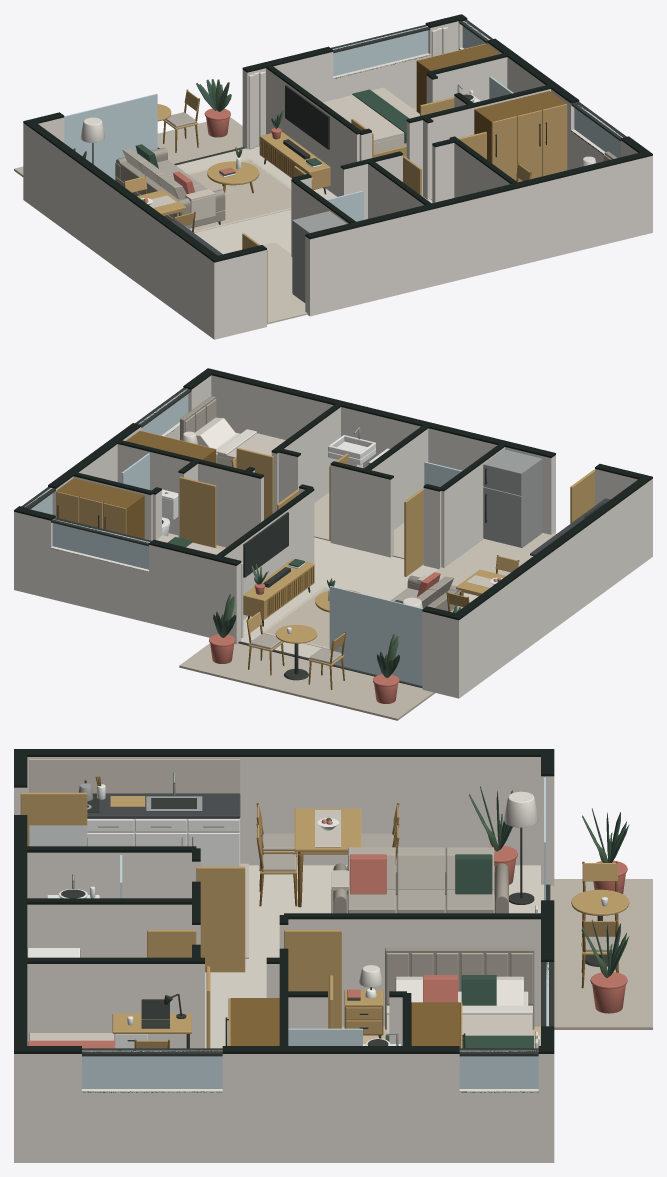
Rendered from jda-interior-tipo-b-terreo.glb.
The picture shows the model from 3 angles, top to bottom: view 1: azimuth 30°, elevation 25°; view 2: azimuth 150°, elevation 25°; view 3: azimuth 270°, elevation 25°; orthographic projection. The views are drawn at different scales.
Parts seen in each view (by area): view 1: VIS__INTB_PAREDE, VIS__INTB_MADEIRA, VIS__INTB_CORTE, VIS__INTB_VIDRO, VIS__INTB_MADEIRA_ESC, VIS__INTB_PISO, VIS__INTB_TECIDO2, VIS__INTB_ESCURO, VIS__INTB_TAPETE, VIS__INTB_TECIDO, VIS__INTB_VARANDA, VIS__INTB_MOLHADO (+6 smaller); view 2: VIS__INTB_PAREDE, VIS__INTB_MADEIRA, VIS__INTB_VIDRO, VIS__INTB_CORTE, VIS__INTB_VARANDA, VIS__INTB_PISO, VIS__INTB_INOX, VIS__INTB_MADEIRA_ESC, VIS__INTB_ESCURO, VIS__INTB_MOLHADO, VIS__INTB_ESTOFADO2, VIS__INTB_BRANCO (+7 smaller); view 3: VIS__INTB_PAREDE, VIS__INTB_MADEIRA, VIS__INTB_CORTE, VIS__INTB_ESTOFADO2, VIS__INTB_TECIDO2, VIS__INTB_VARANDA, VIS__INTB_VIDRO, VIS__INTB_PISO, VIS__INTB_BRANCO, VIS__INTB_MADEIRA_ESC, VIS__INTB_ESCURO, VIS__INTB_TERRACOTA (+6 smaller).
Boxes of the visible parts, x1=… form: VIS__INTB_PAREDE: x1=23, y1=21, x2=652, y2=339; VIS__INTB_MADEIRA: x1=124, y1=43, x2=567, y2=323; VIS__INTB_CORTE: x1=23, y1=14, x2=652, y2=262; VIS__INTB_VIDRO: x1=64, y1=21, x2=622, y2=221; VIS__INTB_MADEIRA_ESC: x1=124, y1=44, x2=566, y2=232; VIS__INTB_PISO: x1=176, y1=146, x2=432, y2=324; VIS__INTB_TECIDO2: x1=149, y1=87, x2=419, y2=232; VIS__INTB_ESCURO: x1=92, y1=20, x2=626, y2=224; VIS__INTB_TAPETE: x1=189, y1=160, x2=291, y2=230; VIS__INTB_TECIDO: x1=80, y1=27, x2=596, y2=166; VIS__INTB_VARANDA: x1=14, y1=117, x2=242, y2=176; VIS__INTB_MOLHADO: x1=263, y1=242, x2=307, y2=323; VIS__INTB_PAREDE: x1=14, y1=375, x2=652, y2=698; VIS__INTB_MADEIRA: x1=56, y1=430, x2=594, y2=666; VIS__INTB_VIDRO: x1=25, y1=388, x2=462, y2=685; VIS__INTB_CORTE: x1=14, y1=368, x2=652, y2=620; VIS__INTB_VARANDA: x1=179, y1=643, x2=435, y2=720; VIS__INTB_PISO: x1=240, y1=537, x2=478, y2=658; VIS__INTB_INOX: x1=164, y1=427, x2=542, y2=547; VIS__INTB_MADEIRA_ESC: x1=56, y1=431, x2=519, y2=689; VIS__INTB_ESCURO: x1=21, y1=388, x2=604, y2=687; VIS__INTB_MOLHADO: x1=168, y1=492, x2=555, y2=586; VIS__INTB_ESTOFADO2: x1=185, y1=399, x2=462, y2=663; VIS__INTB_BRANCO: x1=162, y1=435, x2=532, y2=633; VIS__INTB_PAREDE: x1=14, y1=757, x2=554, y2=1162; VIS__INTB_MADEIRA: x1=20, y1=792, x2=629, y2=1048; VIS__INTB_CORTE: x1=14, y1=749, x2=554, y2=1092; VIS__INTB_ESTOFADO2: x1=262, y1=833, x2=615, y2=1004; VIS__INTB_TECIDO2: x1=29, y1=759, x2=532, y2=1040; VIS__INTB_VARANDA: x1=550, y1=879, x2=652, y2=1029; VIS__INTB_VIDRO: x1=82, y1=777, x2=548, y2=1088; VIS__INTB_PISO: x1=205, y1=865, x2=543, y2=1048; VIS__INTB_BRANCO: x1=27, y1=784, x2=607, y2=1048; VIS__INTB_MADEIRA_ESC: x1=95, y1=776, x2=618, y2=1048; VIS__INTB_ESCURO: x1=61, y1=780, x2=607, y2=1056; VIS__INTB_TERRACOTA: x1=28, y1=819, x2=627, y2=1048.
Size of the model in its own units: 8.15 by 1.44 by 7.28.
